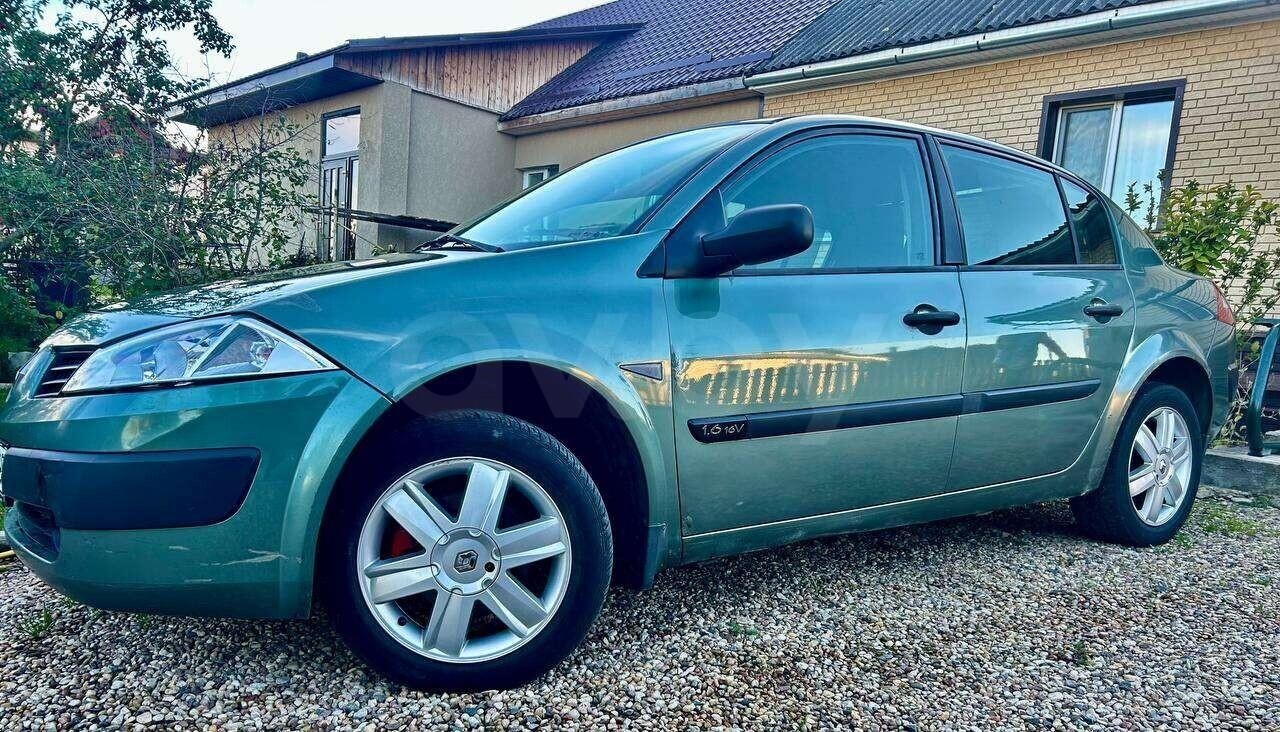Megane_2002-2006: (0, 103, 1242, 683)
